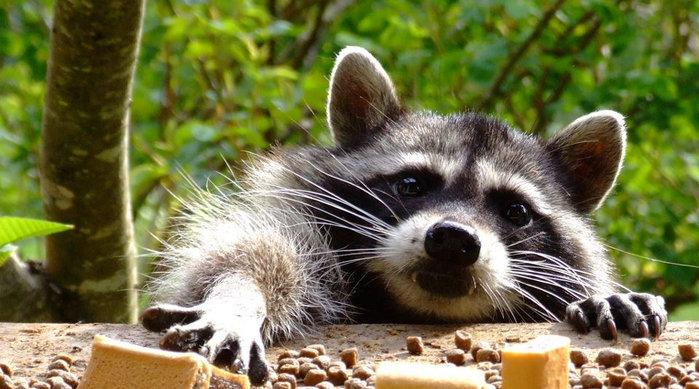raccoon: (146, 42, 674, 380)
